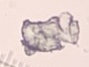microplastic: (19, 12, 81, 57)
